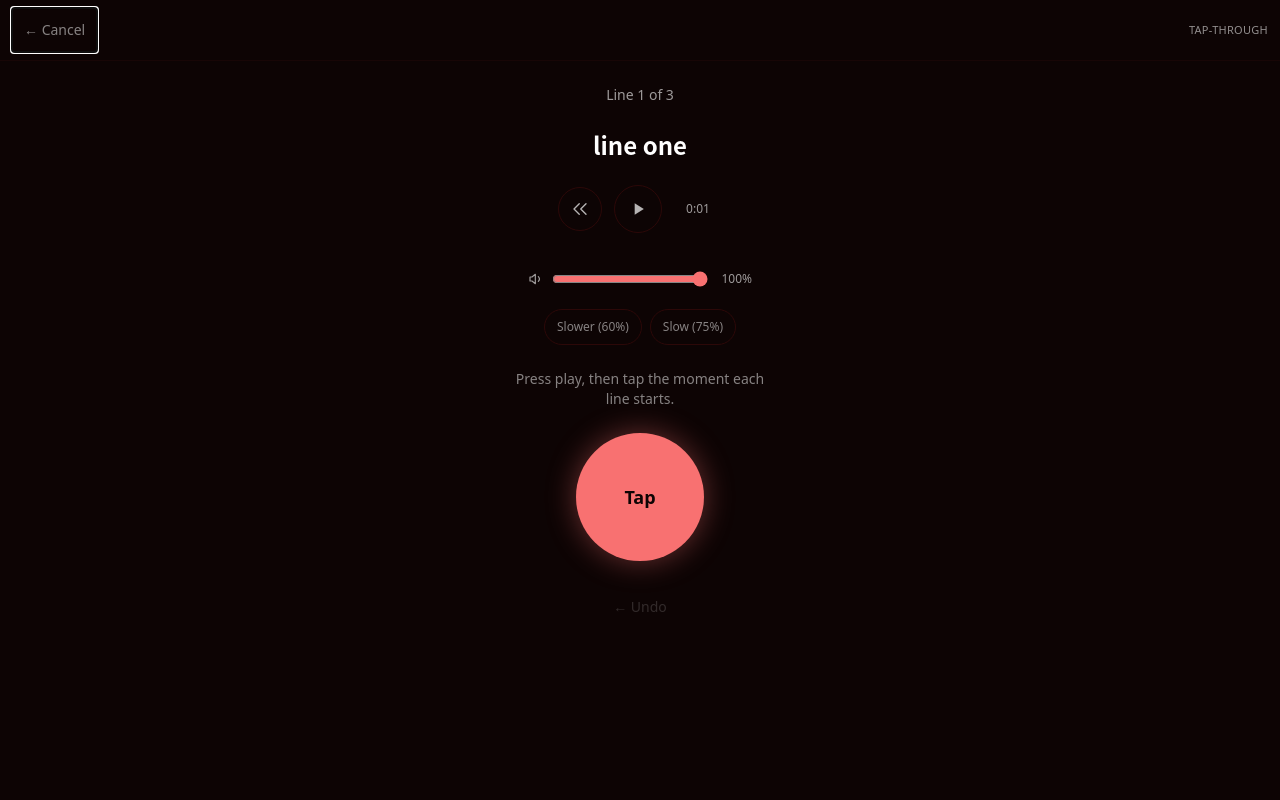
TapSyncEditor — saving part-way › says how much is saved so a partial pass is not mistaken for a full one
Click the button with aria-label "Mark line start" at (640, 497), box [576, 433, 704, 561]
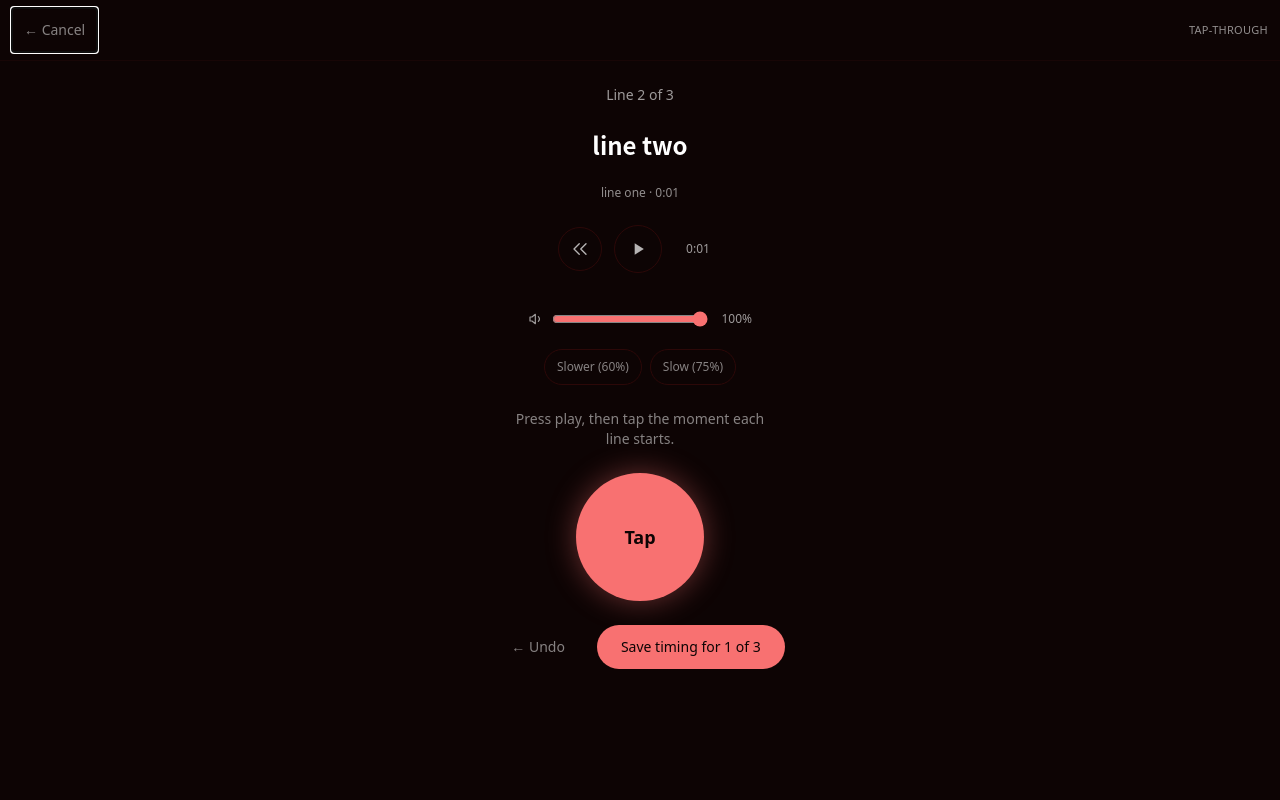
Expected: the button "Save timing for 1 of 3" is shown, [597, 625, 785, 669]
